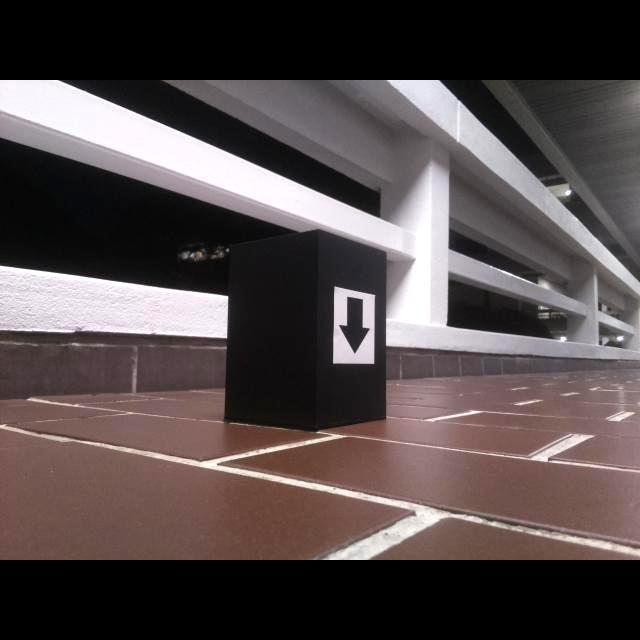DOWN: (338, 295, 371, 355)
